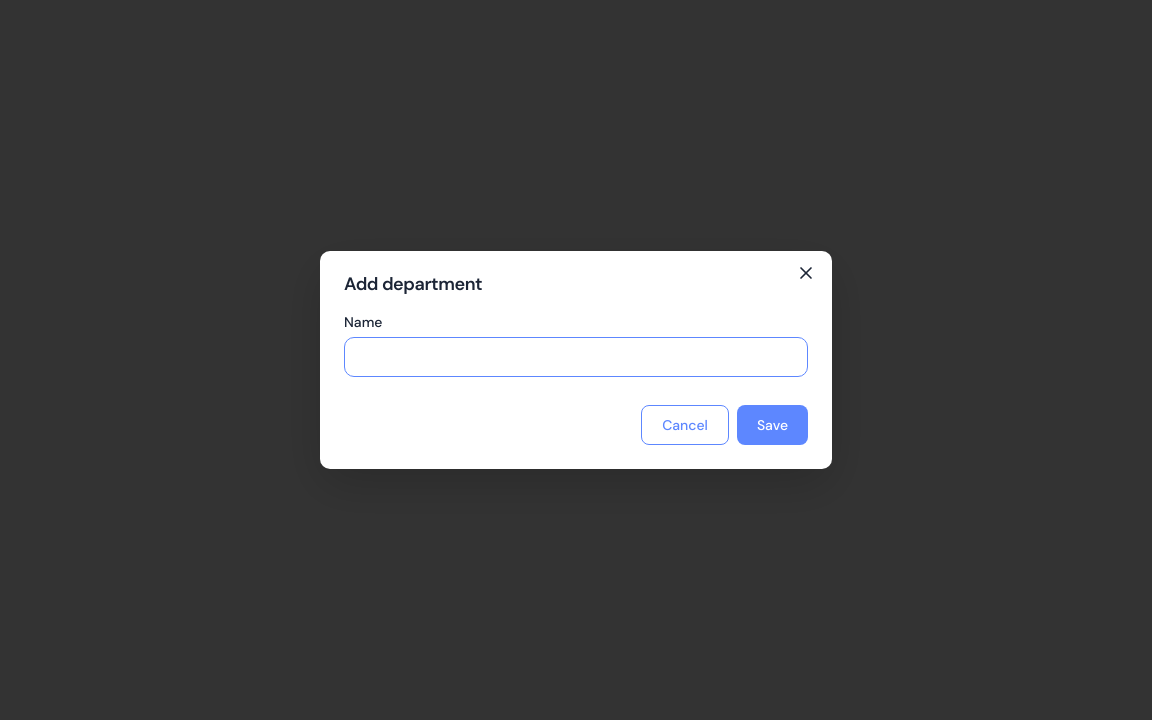
Test case: EntityForm › blocks submit when a required field is empty
Step 1. Click the button "Save" → (772, 425), box [737,405,808,445]
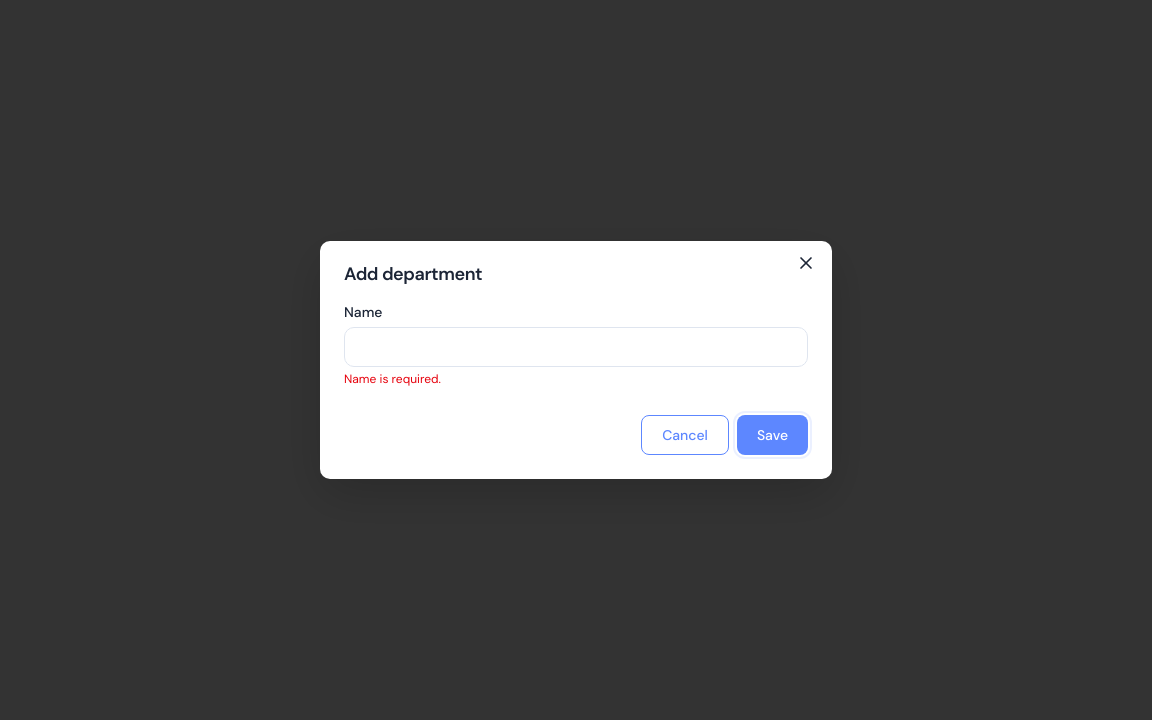
Now the text "Name is required." is shown, box [344,371,441,387]
